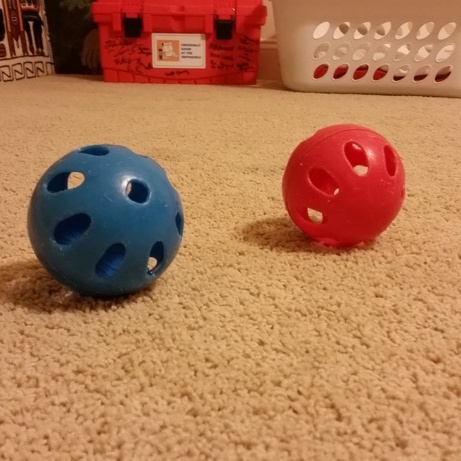ball: (24, 137, 190, 307), (274, 116, 413, 259)
